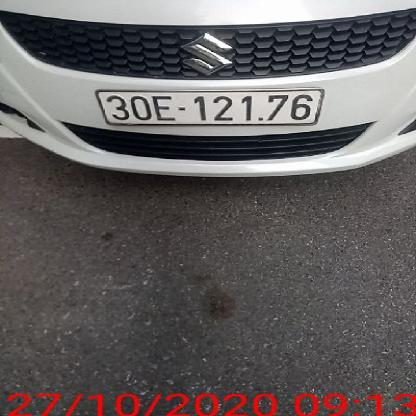biensoxe: (92, 84, 324, 127)
